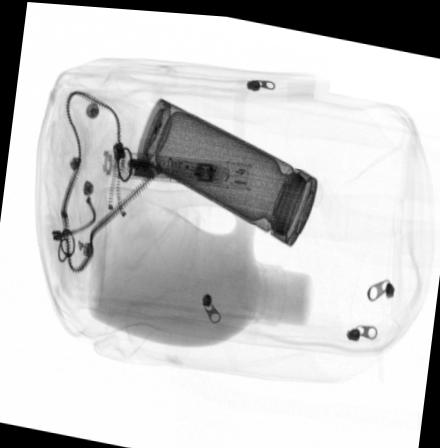Baton: (98, 145, 255, 189)
